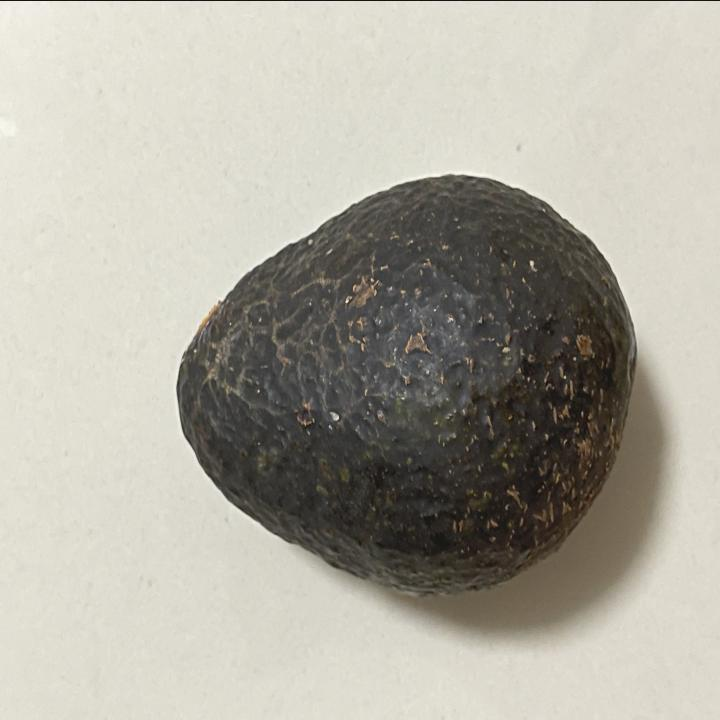Level2: (170, 166, 644, 608)
